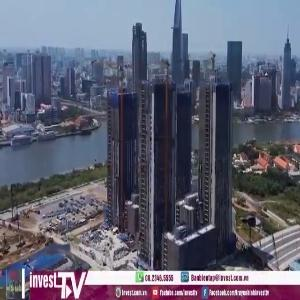drone: (20, 220, 95, 295)
